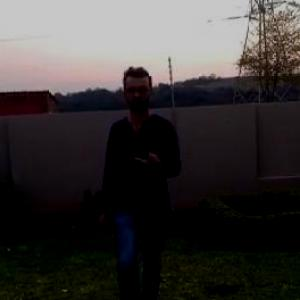land_hand: (131, 136, 167, 176)
